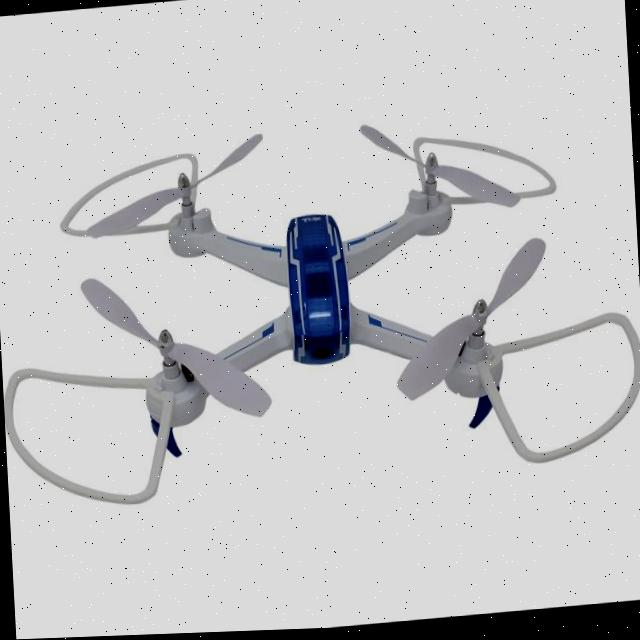drone: (7, 93, 640, 545)
